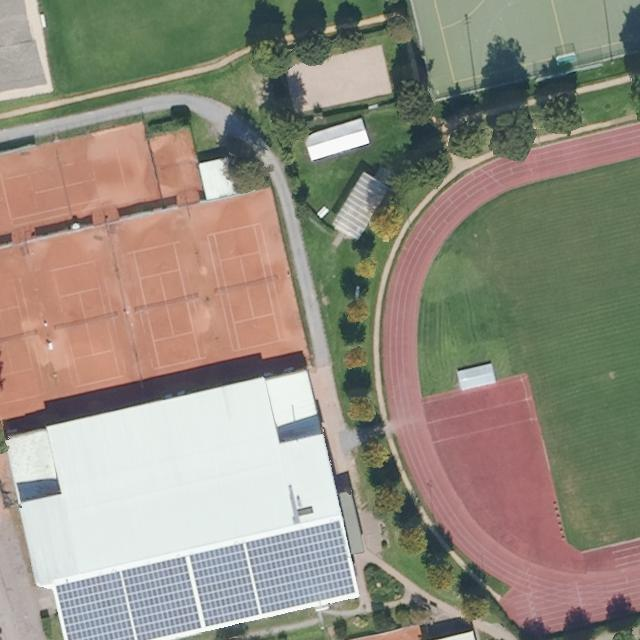PV: (244, 518, 358, 617), (121, 554, 205, 639), (187, 541, 261, 629), (54, 568, 137, 639)
